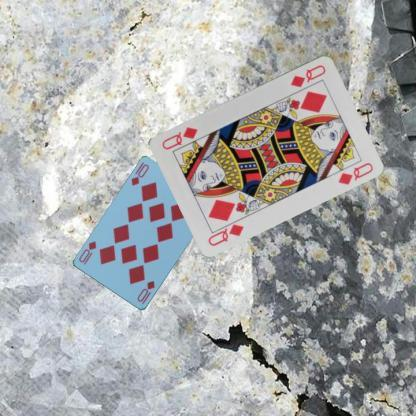10d: (134, 278, 156, 306), (128, 160, 150, 188)
Qd: (205, 214, 245, 248), (288, 62, 328, 88)
